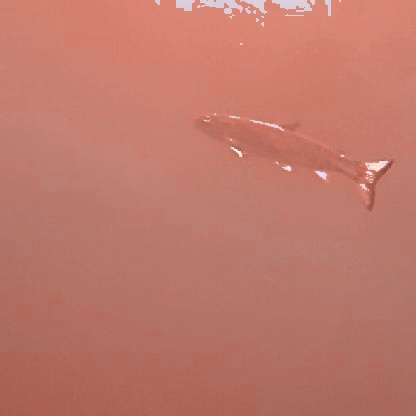salmon: (184, 104, 395, 211)
